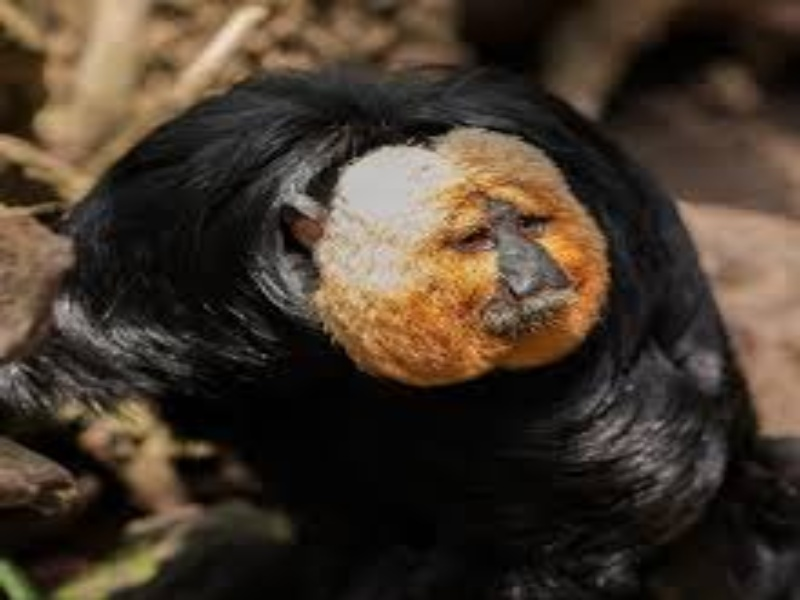monkey: (75, 63, 755, 571)
